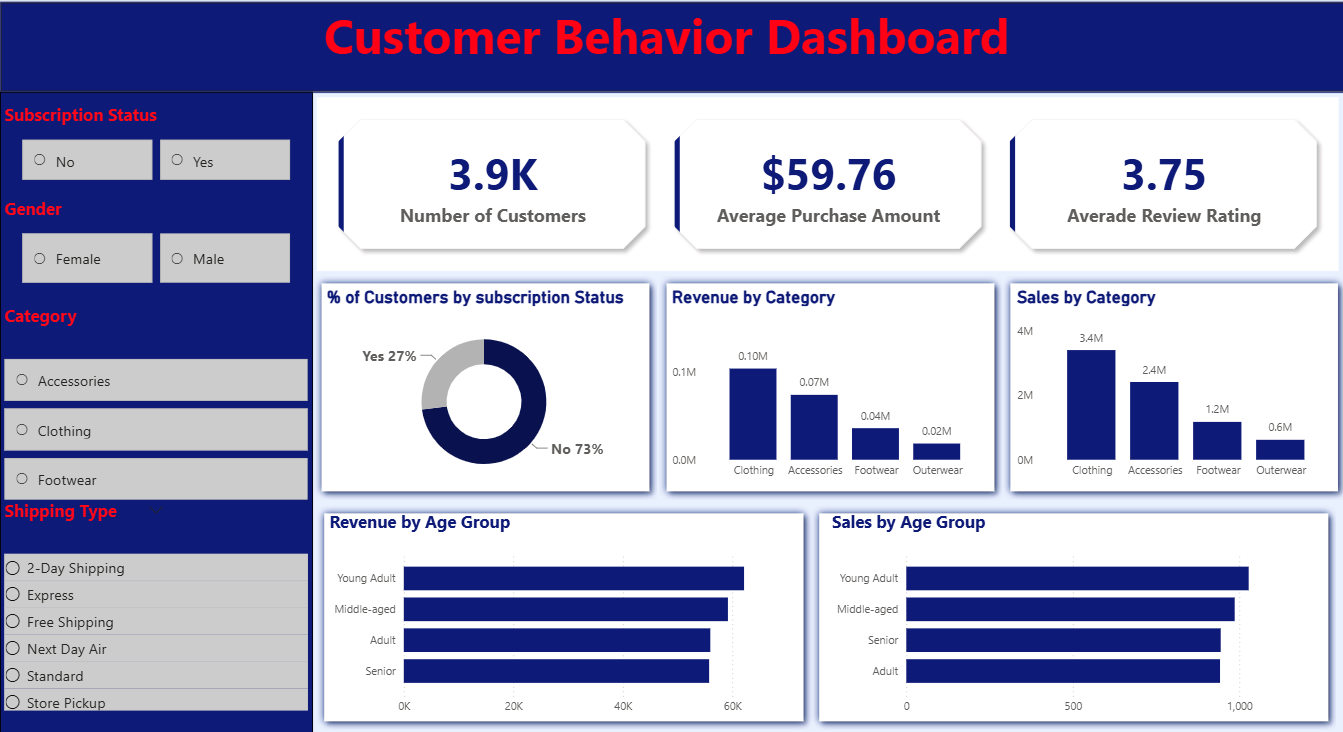

What the dashboard file says about the page in this screenshot:
{"tool":"powerbi","page":{"name":"Page 1","canvas":[1500,820],"ordinal":0},"visuals":[{"type":"cardVisual","fields":{"Data":["public customer.Number of Customers","public customer.Average Purchase Amount","public customer.Averade Review Rating"]},"box":[348.8,105.3,1148.1,203.7],"z":0},{"type":"shape","box":[0,3.5,1500.3,101.3],"z":1000},{"type":"textbox","box":[0,0,1500.4,105.3],"z":2000},{"type":"shape","box":[348.9,309,382.7,249.3],"z":3000},{"type":"donutChart","title":"% of Customers by subscription Status","fields":{"Category":["public customer.subscription_status"],"Y":["CountNonNull(public customer.customer_id)"]},"box":[358.9,322.3,360.2,223.5],"z":4000},{"type":"shape","box":[733.3,309,382.7,249.3],"z":5000},{"type":"shape","box":[1117.3,309,382.7,249.3],"z":6000},{"type":"clusteredColumnChart","title":"Revenue by Category","fields":{"Y":["Sum(public customer.purchase_amount)"],"Category":["public customer.category"]},"box":[744.1,321.1,360.8,222.7],"z":7000},{"type":"clusteredColumnChart","title":"Sales by Category","fields":{"Y":["Sum(public customer.customer_id)"],"Category":["public customer.category"]},"box":[1127.4,321.1,360.8,222.7],"z":8000},{"type":"shape","box":[0,104.7,348.8,714.8],"z":9000},{"type":"advancedSlicerVisual","fields":{"Values":["public customer.subscription_status"]},"box":[0,116.3,348.9,91.4],"z":10000},{"type":"advancedSlicerVisual","fields":{"Values":["public customer.gender"]},"box":[0,221,348.9,101.4],"z":11000},{"type":"advancedSlicerVisual","fields":{"Values":["public customer.category"]},"box":[0,340.6,348.9,244.2],"z":12000},{"type":"listSlicer","fields":{"Values":["public customer.shipping_type"]},"box":[0,558.3,348.9,260.9],"z":13000},{"type":"shape","box":[352.2,564.9,551.6,249.2],"z":14000},{"type":"shape","box":[903.9,564.9,584.8,249.2],"z":15000},{"type":"clusteredBarChart","title":"Sales by Age Group","fields":{"Y":["CountNonNull(public customer.customer_id)"],"Category":["public customer.age_group"]},"box":[922.1,571.6,553.3,235.9],"z":16000},{"type":"clusteredBarChart","title":"Revenue by Age Group","fields":{"Y":["Sum(public customer.purchase_amount)"],"Category":["public customer.age_group"]},"box":[362.2,571.6,530,235.9],"z":17000}]}

Visuals, with their boxes in screenshot pixels (x1, y1, x2, y2), scaled from the page's 1500x820 canvas onto the 1343x732 screenshot:
cardVisual - public customer.Number of Customers x public customer.Average Purchase Amount: pyautogui.locateOnScreen(312, 94, 1340, 276)
shape: pyautogui.locateOnScreen(0, 3, 1342, 94)
textbox: pyautogui.locateOnScreen(0, 0, 1342, 94)
shape: pyautogui.locateOnScreen(312, 276, 655, 498)
"% of Customers by subscription Status" donutChart: pyautogui.locateOnScreen(321, 288, 644, 487)
shape: pyautogui.locateOnScreen(657, 276, 999, 498)
shape: pyautogui.locateOnScreen(1000, 276, 1342, 498)
"Revenue by Category" clusteredColumnChart: pyautogui.locateOnScreen(666, 287, 989, 485)
"Sales by Category" clusteredColumnChart: pyautogui.locateOnScreen(1009, 287, 1332, 485)
shape: pyautogui.locateOnScreen(0, 93, 312, 731)
advancedSlicerVisual - public customer.subscription_status: pyautogui.locateOnScreen(0, 104, 312, 185)
advancedSlicerVisual - public customer.gender: pyautogui.locateOnScreen(0, 197, 312, 288)
advancedSlicerVisual - public customer.category: pyautogui.locateOnScreen(0, 304, 312, 522)
listSlicer - public customer.shipping_type: pyautogui.locateOnScreen(0, 498, 312, 731)
shape: pyautogui.locateOnScreen(315, 504, 809, 727)
shape: pyautogui.locateOnScreen(809, 504, 1333, 727)
"Sales by Age Group" clusteredBarChart: pyautogui.locateOnScreen(826, 510, 1321, 721)
"Revenue by Age Group" clusteredBarChart: pyautogui.locateOnScreen(324, 510, 799, 721)
